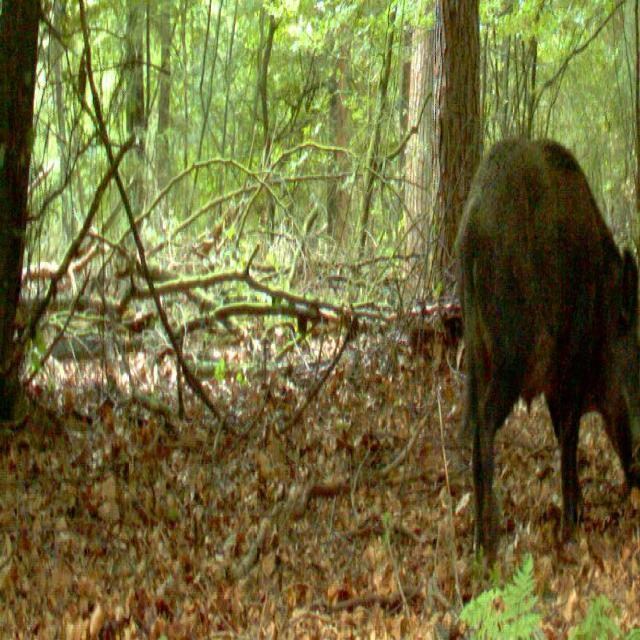pig: (421, 94, 640, 561)
